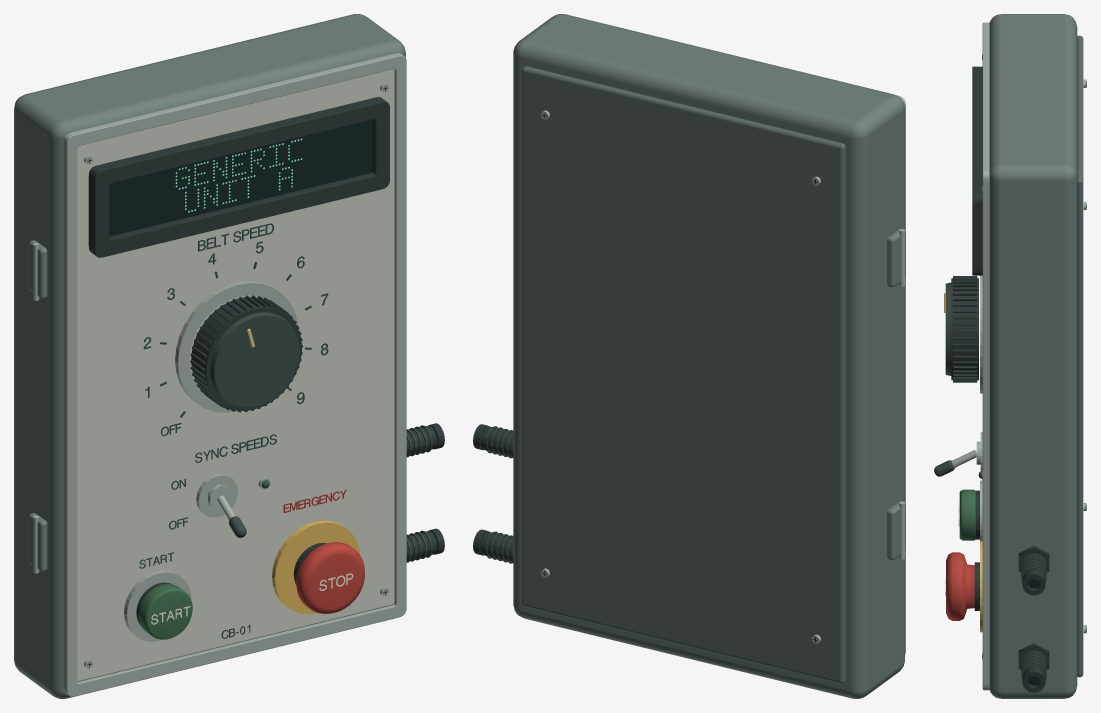
Rendered from control-box.glb.
3 renders of one model, left to right at view 1: azimuth 30°, elevation 25°; view 2: azimuth 150°, elevation 25°; view 3: azimuth 270°, elevation 25°, orthographic. The views are drawn at different scales.
Parts seen in each view (by area): view 1: RecessedFaceplate, Enclosure, RaisedFrontRim, DisplayBezel, RecessedDisplay, KnobFace, ButtonCap (×2), RaisedCollar (×2), SpeedDialBezel, KnobCore, SideHinge (×2), RaisedKnurledGrip (+2 smaller); view 2: RearCover, Enclosure, SideHinge (×2); view 3: Enclosure, RaisedFrontRim, RearCover, ButtonCap (×2), DisplayBezel, RaisedKnurledGrip, KnobCore, GlandOutlet (×2), GlandNut (×2), KnobFace, SpeedDialBezel, ButtonSocket (+1 smaller).
Boxes of the visible parts, <box> form: RecessedFaceplate: <box>77,69,394,681</box>; Enclosure: <box>14,14,405,698</box>; RaisedFrontRim: <box>63,53,406,696</box>; DisplayBezel: <box>88,97,389,257</box>; RecessedDisplay: <box>109,120,371,236</box>; KnobFace: <box>210,312,299,407</box>; ButtonCap (×2): <box>138,542,364,639</box>; RaisedCollar (×2): <box>124,520,359,641</box>; SpeedDialBezel: <box>175,281,298,412</box>; KnobCore: <box>191,297,301,410</box>; SideHinge (×2): <box>28,240,47,571</box>; RaisedKnurledGrip: <box>190,295,302,412</box>; RearCover: <box>521,66,845,683</box>; Enclosure: <box>513,14,904,698</box>; SideHinge (×2): <box>887,229,905,559</box>; Enclosure: <box>989,14,1077,698</box>; RaisedFrontRim: <box>982,22,989,690</box>; RearCover: <box>1077,35,1083,677</box>; ButtonCap (×2): <box>946,489,975,620</box>; DisplayBezel: <box>972,66,982,275</box>; RaisedKnurledGrip: <box>953,276,977,382</box>; KnobCore: <box>951,278,978,380</box>; GlandOutlet (×2): <box>1022,571,1045,692</box>; GlandNut (×2): <box>1018,545,1049,669</box>; KnobFace: <box>945,282,951,375</box>; SpeedDialBezel: <box>980,275,982,393</box>; ButtonSocket: <box>974,562,979,610</box>.
Bounding box in the file's own units: 0.3985 × 0.53 × 0.1374.
